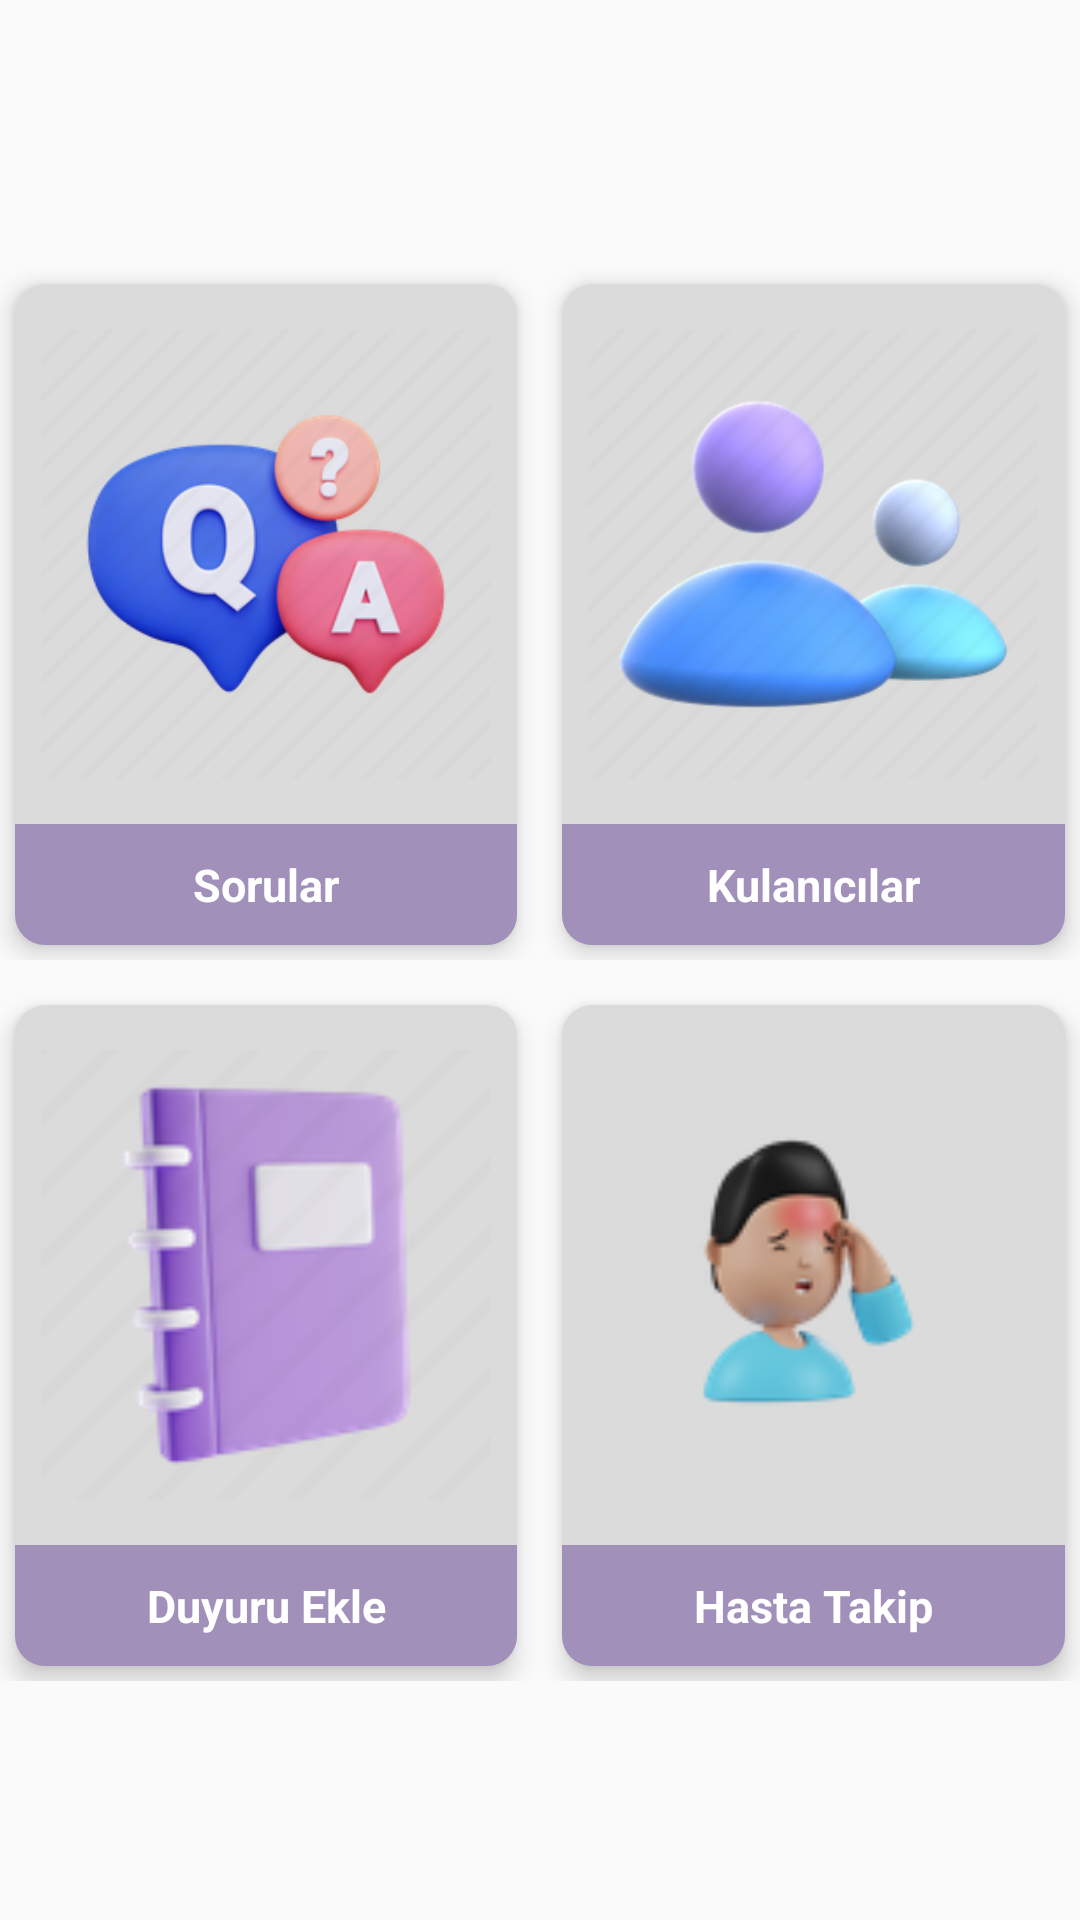

Point at icon controls on the screen. Image size 1080px×1920px, points as point (x, y).
hekimsoru: point (266, 554)
patient: point (808, 1271)
